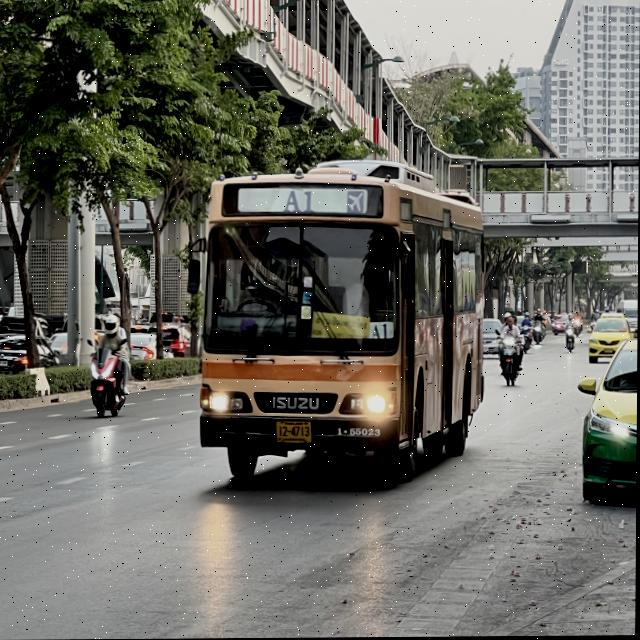BMTA-bus: (182, 150, 489, 490)
Bus Line Number: (275, 186, 323, 214)
Bus Side Number: (333, 425, 387, 442)
Destination Sign: (313, 310, 369, 341)
